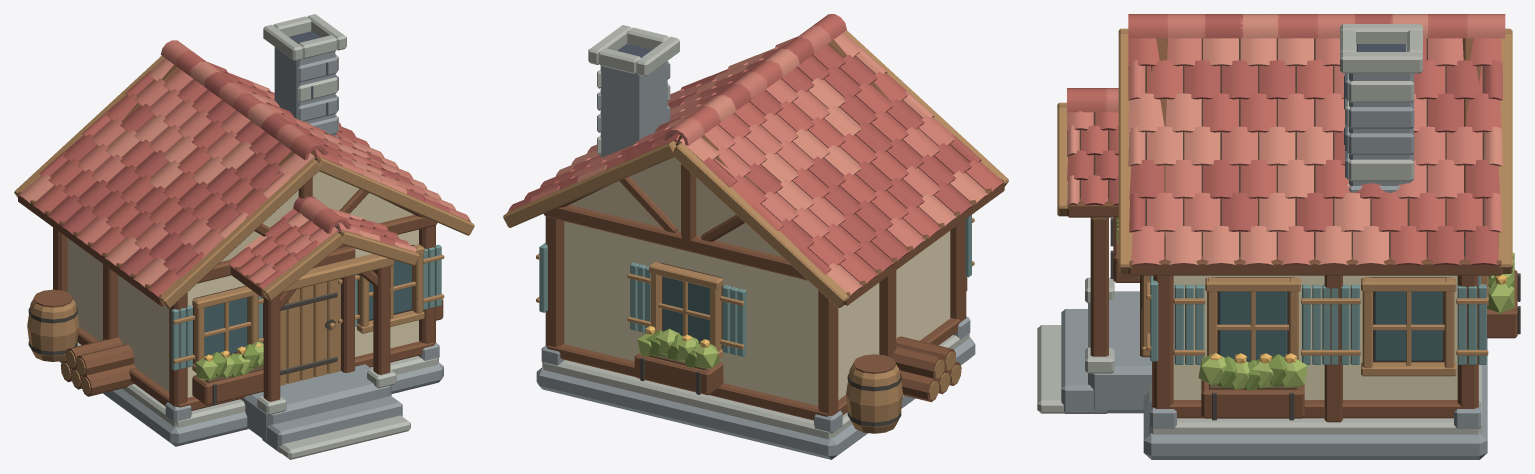
File: HearthCottage_SharedUV_Polished.glb
3 views of the same model, side by side, from view 1: azimuth 30°, elevation 25°; view 2: azimuth 150°, elevation 25°; view 3: azimuth 270°, elevation 25° (orthographic). The views are drawn at different scales.
Visible parts, largest first — view 1: Roof | main curved tiles, Walls | lime plaster, Front left window, Structure | timber frame, Door | oak and iron, Chimney | masonry, Roof | porch curved tiles, Porch | landing, Front right window, Roof | main ridge caps, Foundation | solid plinth, Props | firewood (+15 smaller); view 2: Roof | main curved tiles, Walls | lime plaster, Structure | timber frame, Rear window, Chimney | masonry, Foundation | solid plinth, Gable | plaster.001, Roof | main ridge caps, Foundation | top course, Props | rain barrel, Main roof | bargeboard.001, Props | firewood (+4 smaller); view 3: Roof | main curved tiles, East window, East rear window, Chimney | masonry, Structure | timber frame, Foundation | solid plinth, Roof | main ridge caps, Walls | lime plaster, Foundation | top course, Porch | landing, Main roof | eave.001, Roof | porch curved tiles (+13 smaller).
Part boxes in pixels (box(x1,y1,x2,y2)): Roof | main curved tiles: box(18, 58, 470, 297); Walls | lime plaster: box(67, 229, 418, 397); Front left window: box(171, 285, 263, 405); Structure | timber frame: box(53, 65, 439, 422); Door | oak and iron: box(263, 246, 355, 385); Chimney | masonry: box(263, 14, 346, 137); Roof | porch curved tiles: box(229, 208, 415, 289); Porch | landing: box(240, 364, 391, 441); Front right window: box(338, 244, 444, 333); Roof | main ridge caps: box(160, 40, 327, 159); Foundation | solid plinth: box(59, 361, 443, 446); Props | firewood: box(60, 337, 136, 396); Roof | main curved tiles: box(508, 32, 1004, 295); Walls | lime plaster: box(564, 221, 950, 405); Structure | timber frame: box(541, 40, 970, 433); Rear window: box(627, 262, 746, 395); Chimney | masonry: box(588, 25, 679, 157); Foundation | solid plinth: box(536, 337, 975, 459); Gable | plaster.001: box(569, 157, 781, 256); Roof | main ridge caps: box(664, 14, 846, 145); Foundation | top course: box(542, 333, 969, 439); Props | rain barrel: box(846, 354, 903, 433); Main roof | bargeboard.001: box(672, 143, 849, 307); Props | firewood: box(892, 336, 961, 402); Roof | main curved tiles: box(1128, 38, 1502, 265); East window: box(1173, 277, 1331, 420); East rear window: box(1330, 277, 1488, 376); Chimney | masonry: box(1340, 24, 1422, 198); Structure | timber frame: box(1149, 38, 1481, 428); Foundation | solid plinth: box(1143, 338, 1487, 459); Roof | main ridge caps: box(1128, 14, 1505, 38); Walls | lime plaster: box(1173, 275, 1457, 399); Foundation | top course: box(1149, 365, 1481, 434); Porch | landing: box(1088, 291, 1151, 413); Main roof | eave.001: box(1128, 256, 1502, 275); Roof | porch curved tiles: box(1067, 111, 1118, 205).
Size of the model in its own units: 4.4 by 3.8 by 4.26.
